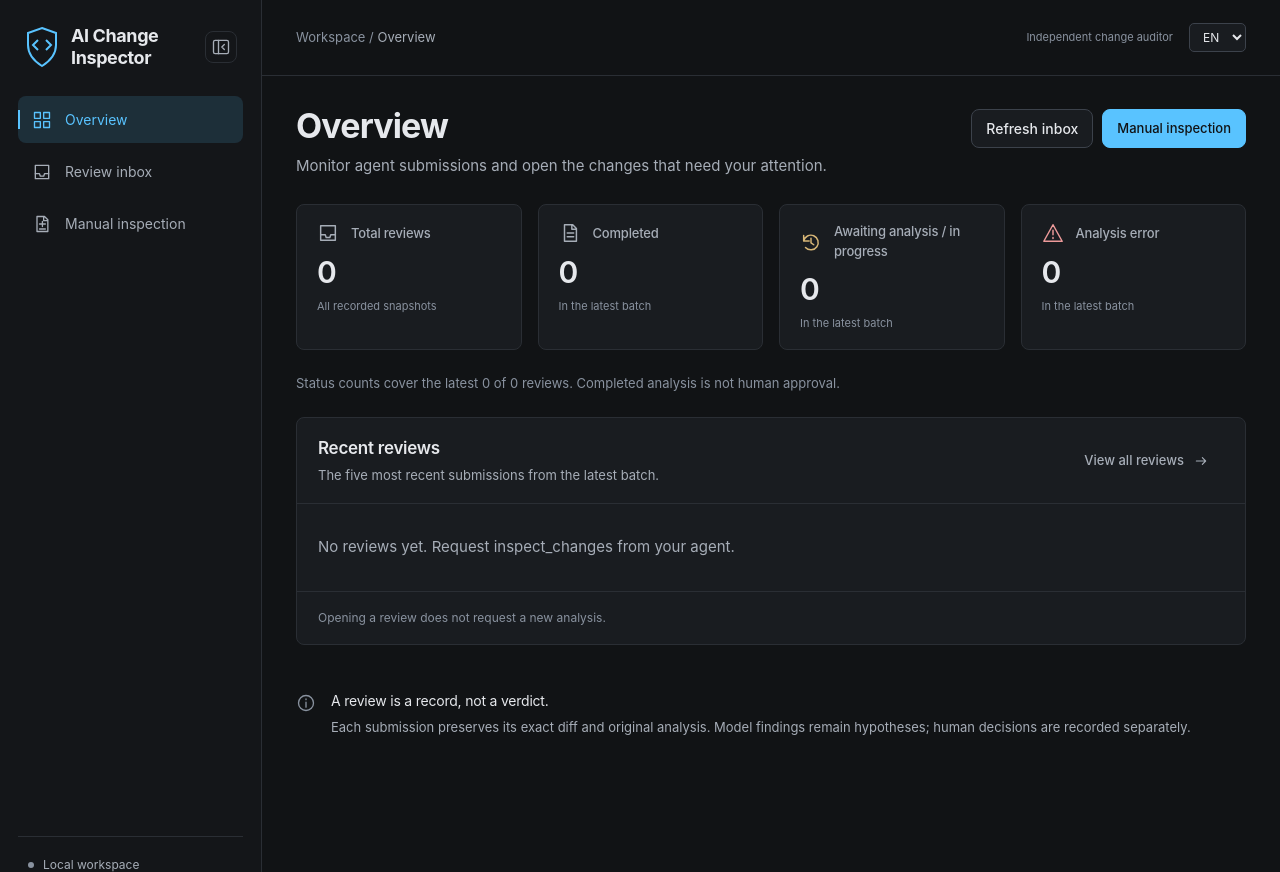
Test: keeps the manual parser available at its dedicated route without loading reviews
Expected: the text "No reviews yet. Request inspect_changes from your agent." is shown, [318, 537, 735, 556]
Click the link "Manual inspection" below "Review inbox": {"x": 109, "y": 224} [32, 214, 186, 234]
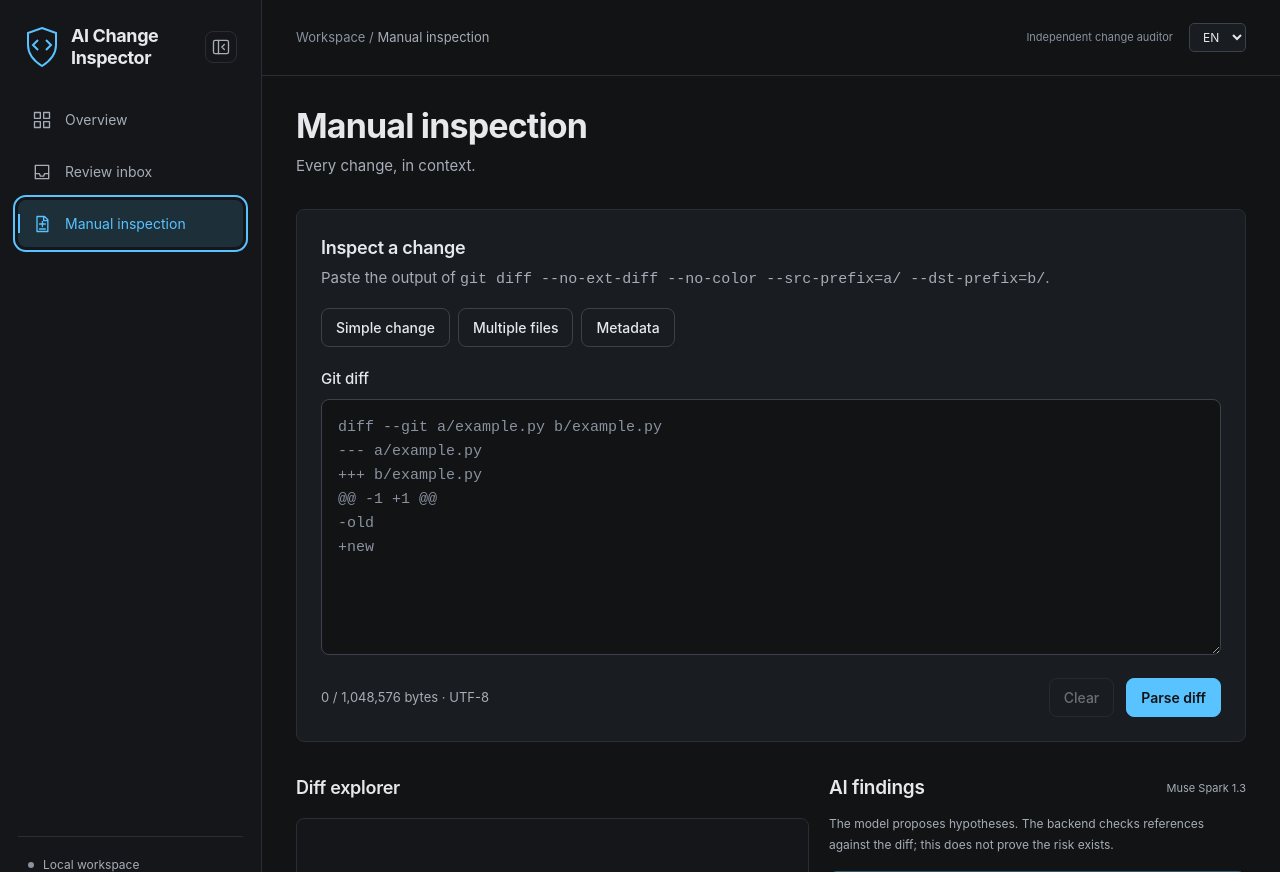
Now the button "Parse diff" is shown, box [1126, 678, 1221, 717]
